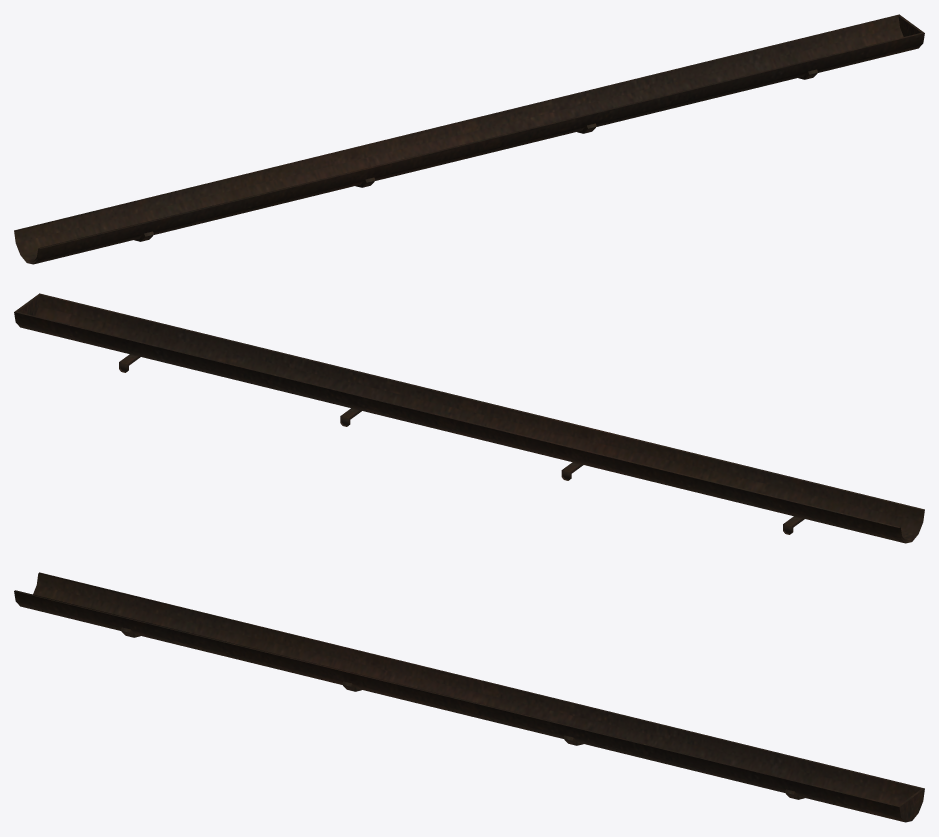
Rendered from rainwater_pipe_hl_1_end_1.dae.
3 renders of one model, top to bottom at view 1: azimuth 30°, elevation 25°; view 2: azimuth 150°, elevation 25°; view 3: azimuth 330°, elevation 25°, orthographic.
Visible parts, largest first — view 1: rainwater_pipe_hl_1_end_1; view 2: rainwater_pipe_hl_1_end_1; view 3: rainwater_pipe_hl_1_end_1.
Boxes of the visible parts, x1,y1,x2,y2 form: rainwater_pipe_hl_1_end_1: (14, 14, 924, 264); rainwater_pipe_hl_1_end_1: (14, 293, 924, 543); rainwater_pipe_hl_1_end_1: (14, 572, 924, 822).
Size of the model in its own units: 4 by 0.21 by 0.14.
Materials: 1 (1 with a texture image).
